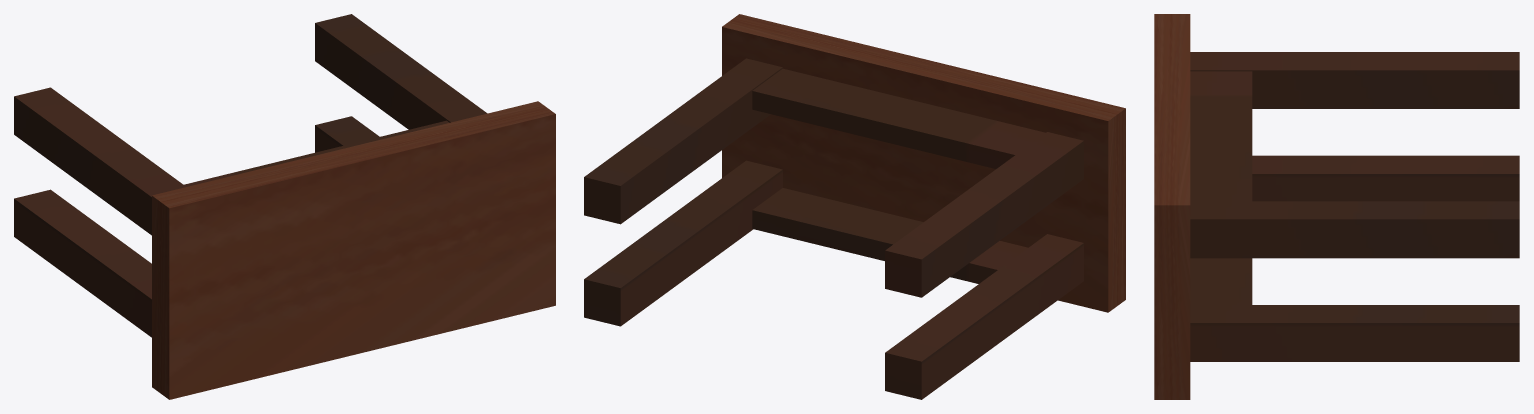
File: pz_table_tables_high_01_long.obj
3 views of the same model, side by side, from view 1: azimuth 30°, elevation 25°; view 2: azimuth 150°, elevation 25°; view 3: azimuth 270°, elevation 25° (orthographic).
Size of the model in its own units: 0.95 by 0.45 by 0.7655.
1 material, 1 textured.
